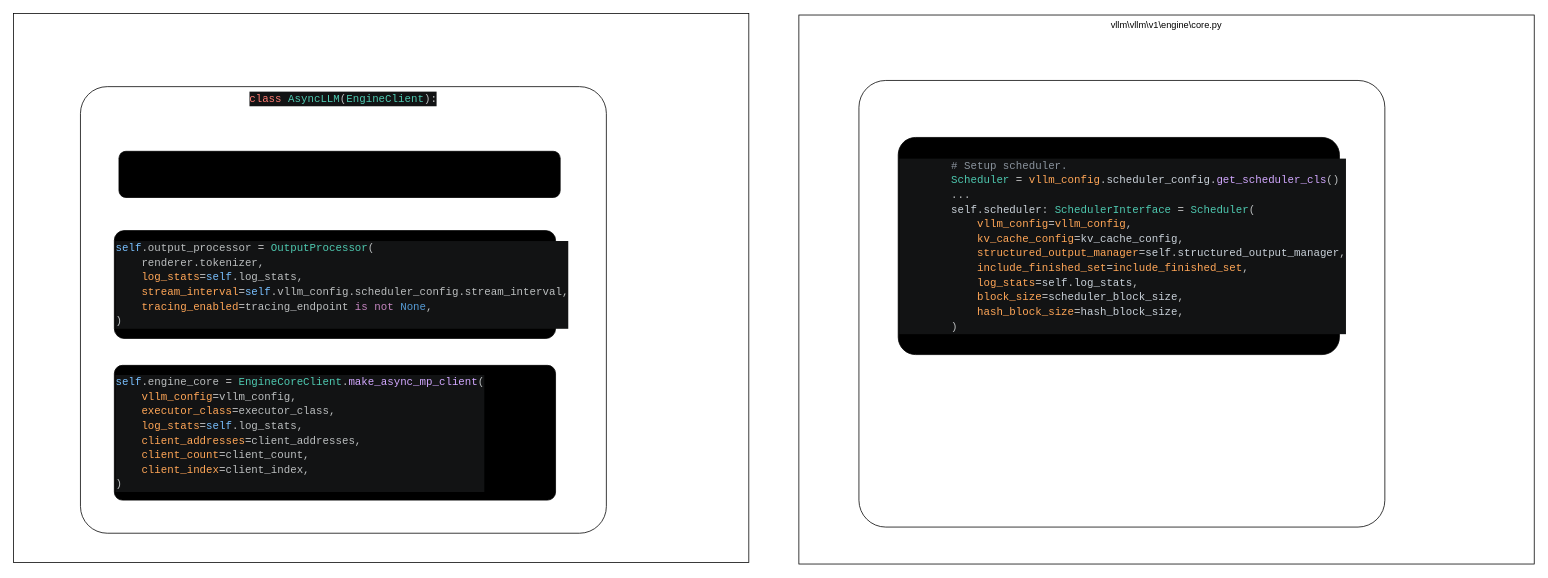
Some shapes in this 1548 by 578 pixel diagram are drawn without their labels. The shapes that lost their labels are listed below. From the top down, each one's box as (x1, y1, x2, y2) in pixels, then its label:
(118, 151, 560, 198): self . input_processor = InputProcessor ( self . vllm_config , renderer )
(13, 13, 749, 562): vllm\vllm\v1\engine\async_llm.py
(858, 80, 1385, 527): class EngineCore :
